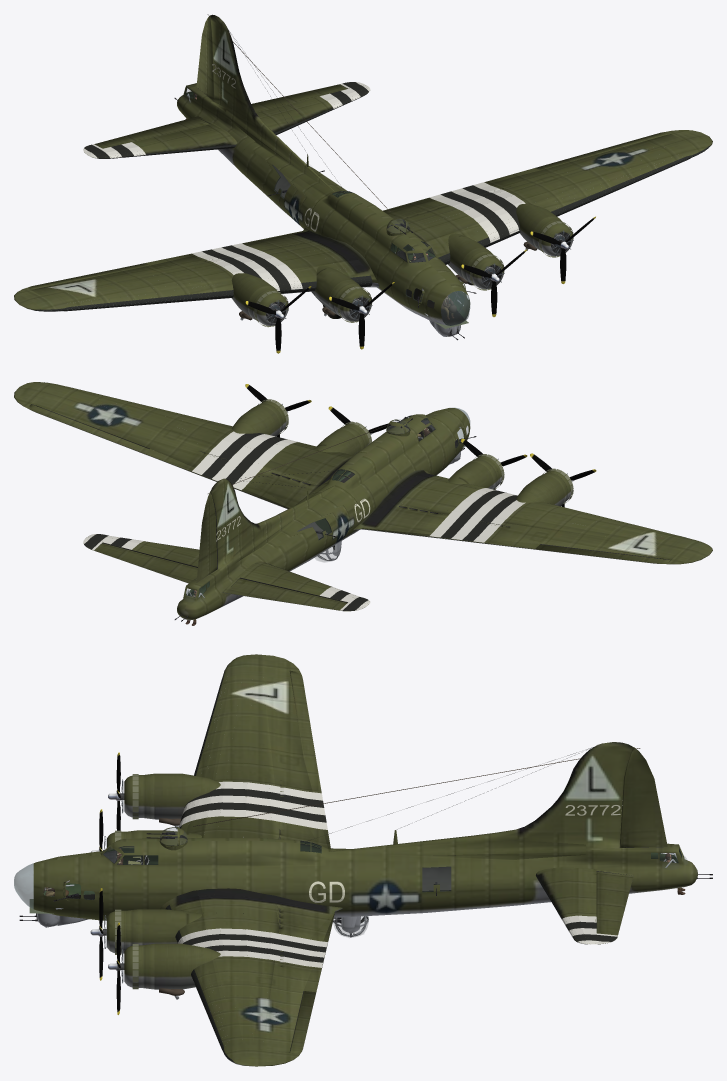
3 renders of one model, top to bottom at view 1: azimuth 30°, elevation 25°; view 2: azimuth 150°, elevation 25°; view 3: azimuth 270°, elevation 25°, orthographic. The views are drawn at different scales.
Parts seen in each view (by area): view 1: hero_geometry_40, hero_geometry_70, hero_geometry_181, hero_geometry_124, hero_geometry_130, hero_geometry_187, hero_geometry_28, hero_geometry_25, hero_geometry_58, hero_geometry_145, hero_geometry_106, hero_geometry_163 (+13 smaller); view 2: hero_geometry_40, hero_geometry_70, hero_geometry_130, hero_geometry_181, hero_geometry_124, hero_geometry_187, hero_geometry_28, hero_geometry_25, hero_geometry_88, hero_geometry_163, hero_geometry_145, hero_geometry_106 (+2 smaller); view 3: hero_geometry_40, hero_geometry_70, hero_geometry_187, hero_geometry_124, hero_geometry_130, hero_geometry_181, hero_geometry_28, hero_geometry_25, hero_geometry_58, hero_geometry_88, hero_geometry_163, hero_geometry_106 (+1 smaller).
Boxes of the visible parts, x1=… form: hero_geometry_40: x1=225, y1=28, x2=446, y2=311; hero_geometry_70: x1=84, y1=14, x2=367, y2=172; hero_geometry_181: x1=62, y1=231, x2=370, y2=322; hero_geometry_124: x1=383, y1=146, x2=680, y2=286; hero_geometry_130: x1=383, y1=130, x2=712, y2=246; hero_geometry_187: x1=14, y1=231, x2=355, y2=311; hero_geometry_28: x1=83, y1=82, x2=525, y2=290; hero_geometry_25: x1=84, y1=82, x2=520, y2=290; hero_geometry_58: x1=403, y1=262, x2=468, y2=330; hero_geometry_145: x1=311, y1=265, x2=371, y2=321; hero_geometry_106: x1=447, y1=233, x2=503, y2=289; hero_geometry_163: x1=231, y1=273, x2=288, y2=325; hero_geometry_40: x1=227, y1=414, x2=454, y2=571; hero_geometry_70: x1=87, y1=478, x2=368, y2=620; hero_geometry_130: x1=14, y1=382, x2=340, y2=508; hero_geometry_181: x1=361, y1=473, x2=679, y2=548; hero_geometry_124: x1=59, y1=389, x2=353, y2=508; hero_geometry_187: x1=364, y1=481, x2=712, y2=564; hero_geometry_28: x1=83, y1=431, x2=525, y2=610; hero_geometry_25: x1=84, y1=433, x2=517, y2=610; hero_geometry_88: x1=231, y1=400, x2=287, y2=436; hero_geometry_163: x1=516, y1=470, x2=572, y2=506; hero_geometry_145: x1=448, y1=455, x2=503, y2=489; hero_geometry_106: x1=316, y1=423, x2=371, y2=455; hero_geometry_40: x1=99, y1=747, x2=593, y2=920; hero_geometry_70: x1=433, y1=742, x2=697, y2=944; hero_geometry_187: x1=183, y1=654, x2=327, y2=848; hero_geometry_124: x1=170, y1=894, x2=335, y2=1042; hero_geometry_130: x1=181, y1=897, x2=334, y2=1066; hero_geometry_181: x1=181, y1=674, x2=330, y2=848; hero_geometry_28: x1=178, y1=781, x2=617, y2=967; hero_geometry_25: x1=180, y1=788, x2=617, y2=962; hero_geometry_58: x1=33, y1=851, x2=100, y2=925; hero_geometry_88: x1=124, y1=943, x2=220, y2=989; hero_geometry_163: x1=124, y1=773, x2=220, y2=819; hero_geometry_106: x1=107, y1=909, x2=201, y2=953.
Bounding box in the file's own units: 31.62 × 7.14 × 22.66.
Materials: 41 (8 with a texture image).
